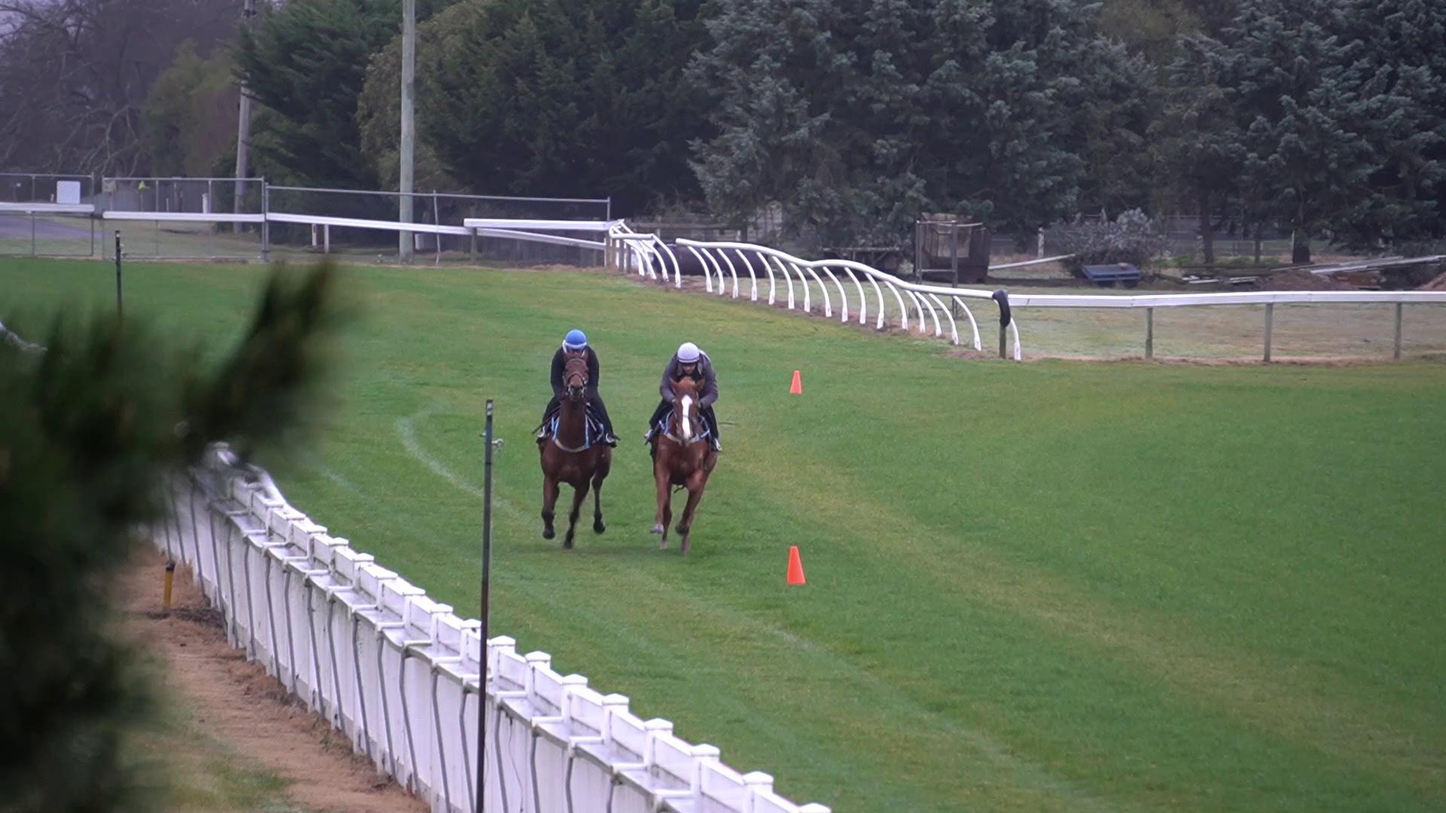racing-horse: (633, 322, 751, 580), (516, 313, 633, 558)
